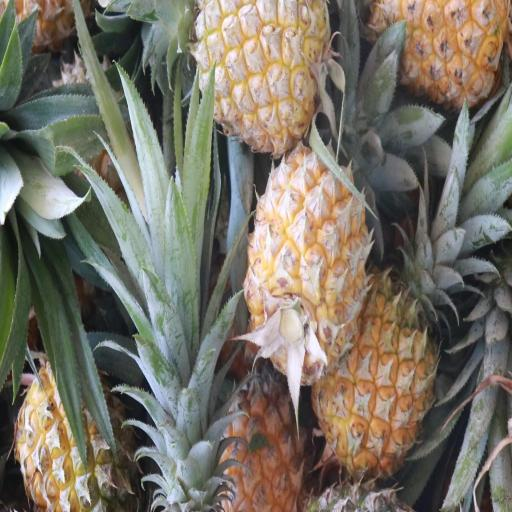------------------------------: (12, 357, 133, 512)
Pineapple - v8 v1: (246, 153, 364, 383), (312, 264, 432, 464), (184, 0, 327, 155), (210, 361, 307, 512), (375, 0, 503, 106)
